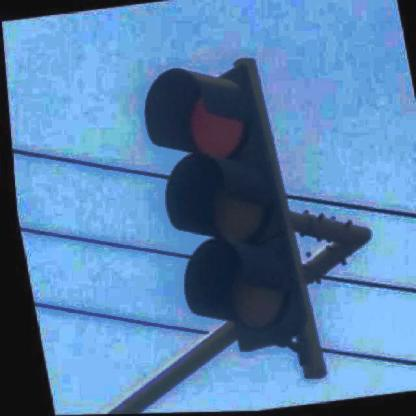Traffic Light -Red-: (133, 57, 306, 357)
